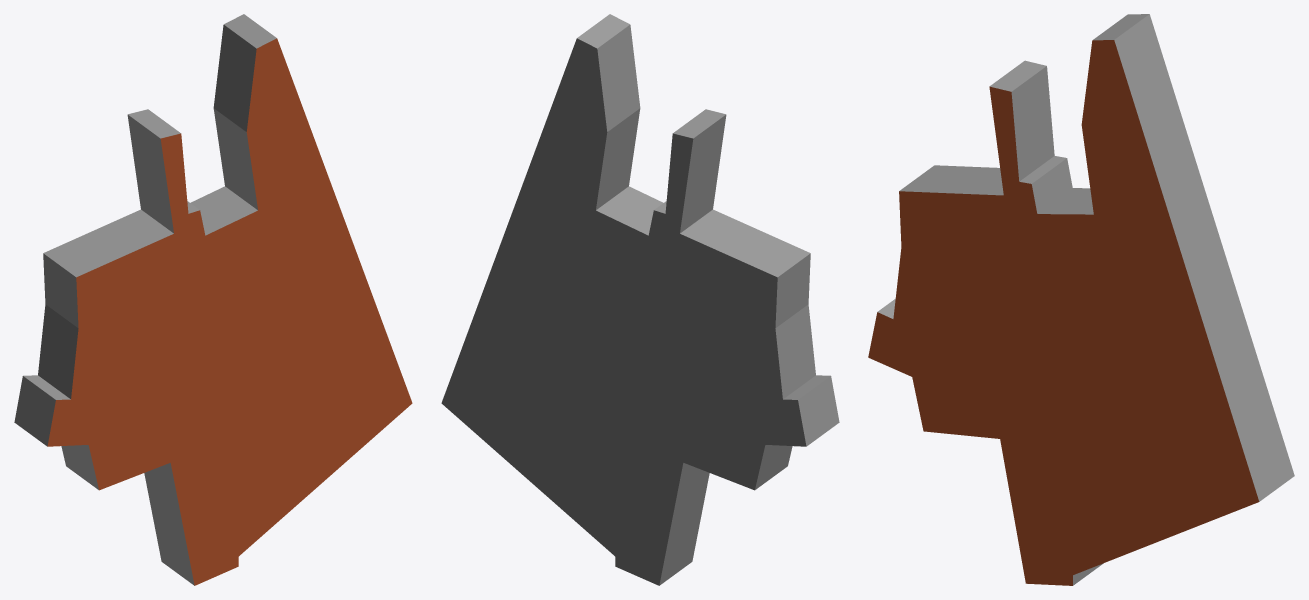
Rendered from construction_0774_assumed_A_Casa_h6m.obj.
3 views of the same model, side by side, from view 1: azimuth 30°, elevation 25°; view 2: azimuth 150°, elevation 25°; view 3: azimuth 330°, elevation 25° (orthographic). The views are drawn at different scales.
Visible parts, largest first — view 1: construction_0774_assumed_A_Casa; view 2: construction_0774_assumed_A_Casa; view 3: construction_0774_assumed_A_Casa.
Part boxes in pixels (x1,y1,x2,y2): construction_0774_assumed_A_Casa: [14, 14, 412, 585]; construction_0774_assumed_A_Casa: [441, 14, 839, 585]; construction_0774_assumed_A_Casa: [868, 14, 1294, 585].
Bounding box in the file's own units: 38.21 × 52.76 × 6.
